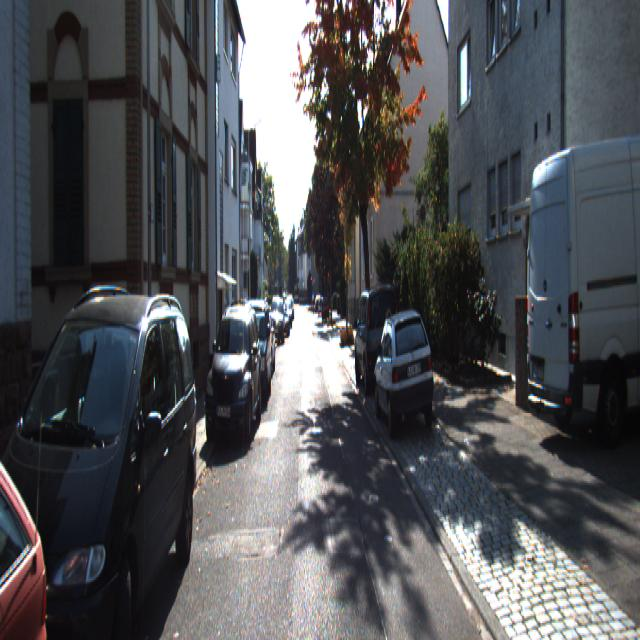Car: (0, 273, 204, 638), (0, 381, 77, 638), (202, 296, 262, 452), (372, 305, 440, 440), (352, 280, 401, 394), (236, 297, 272, 408)
DontCare: (270, 277, 297, 354), (312, 285, 332, 327)
Van: (520, 116, 640, 453)
